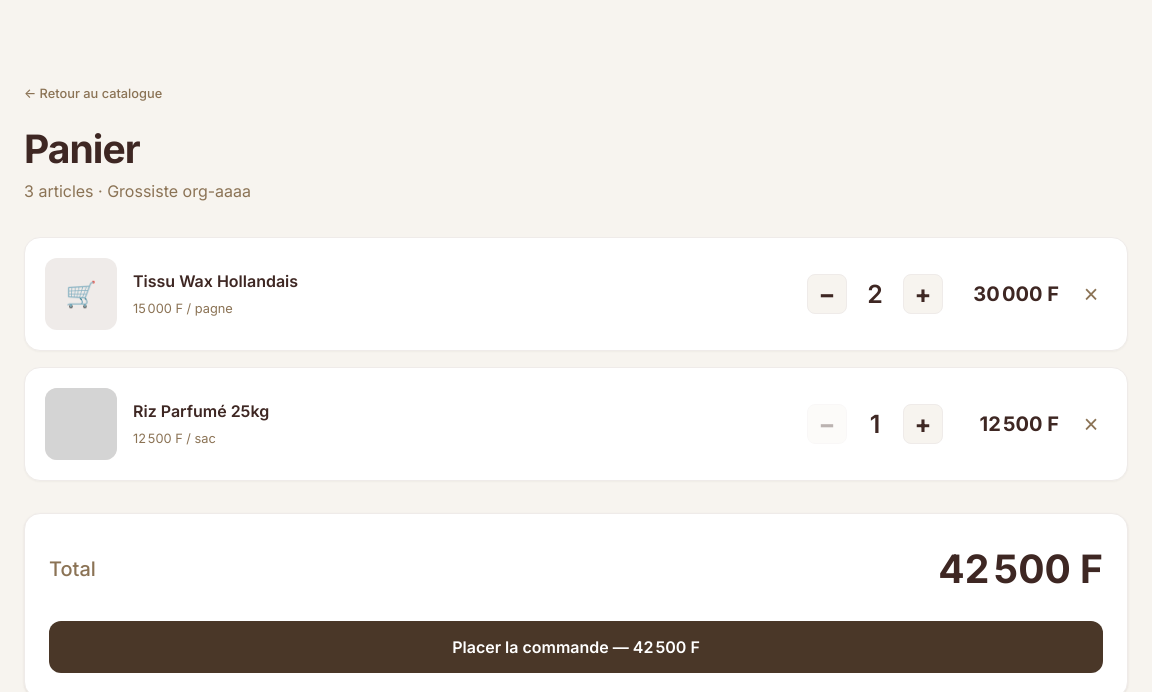
Test: Cart Page — UC-11 / UC-12 › Checkout flow › shows error message on API failure
Click the button with test id "checkout-btn".
click(576, 646)  # box [49,620,1103,672]
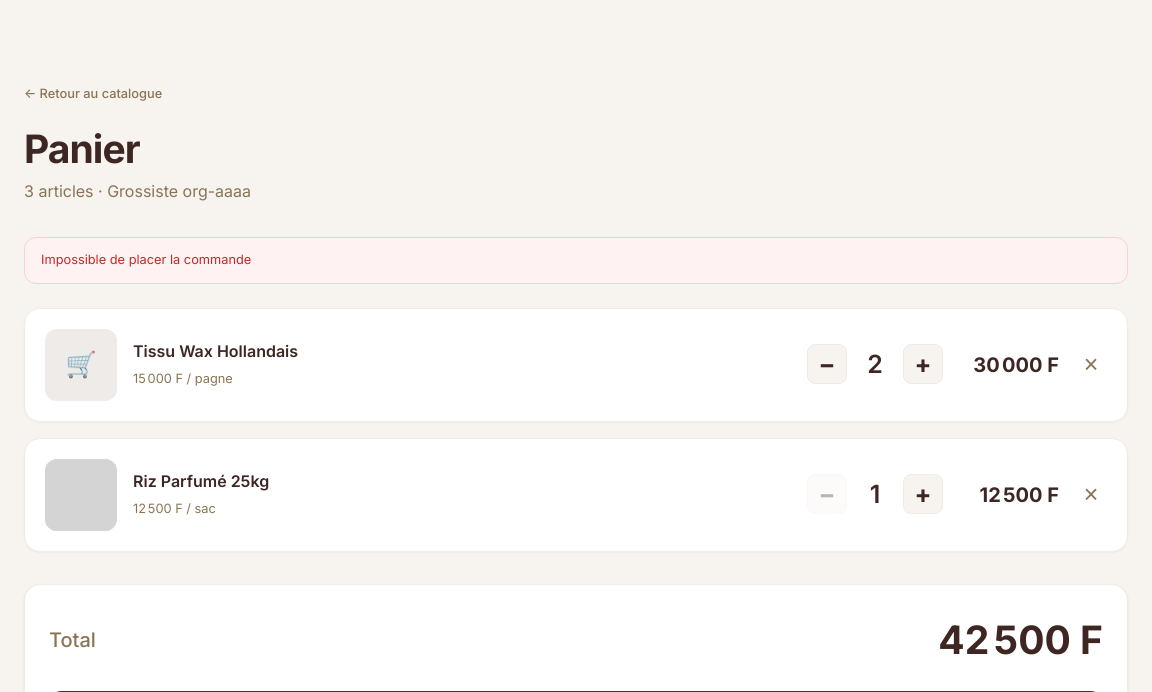
Expected: the element with test id "cart-error" is shown, [24,237,1128,284]
Expected: the text "Impossible de placer la commande" is shown, [41,252,251,267]
